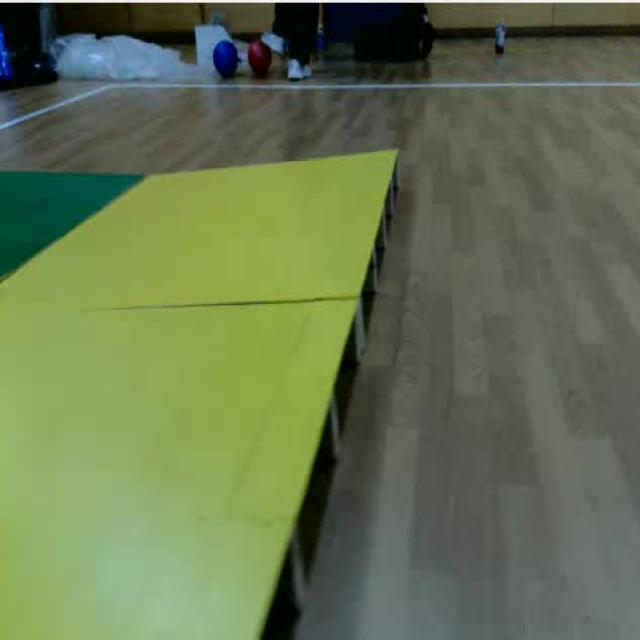blue_ball: (212, 37, 239, 83)
red_ball: (247, 38, 275, 79)
